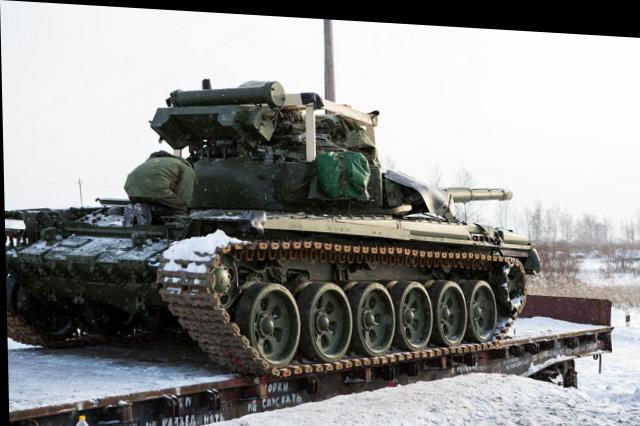other: (123, 147, 193, 207)
tank: (6, 69, 523, 351)
